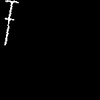double_crochet: (5, 0, 17, 44)
